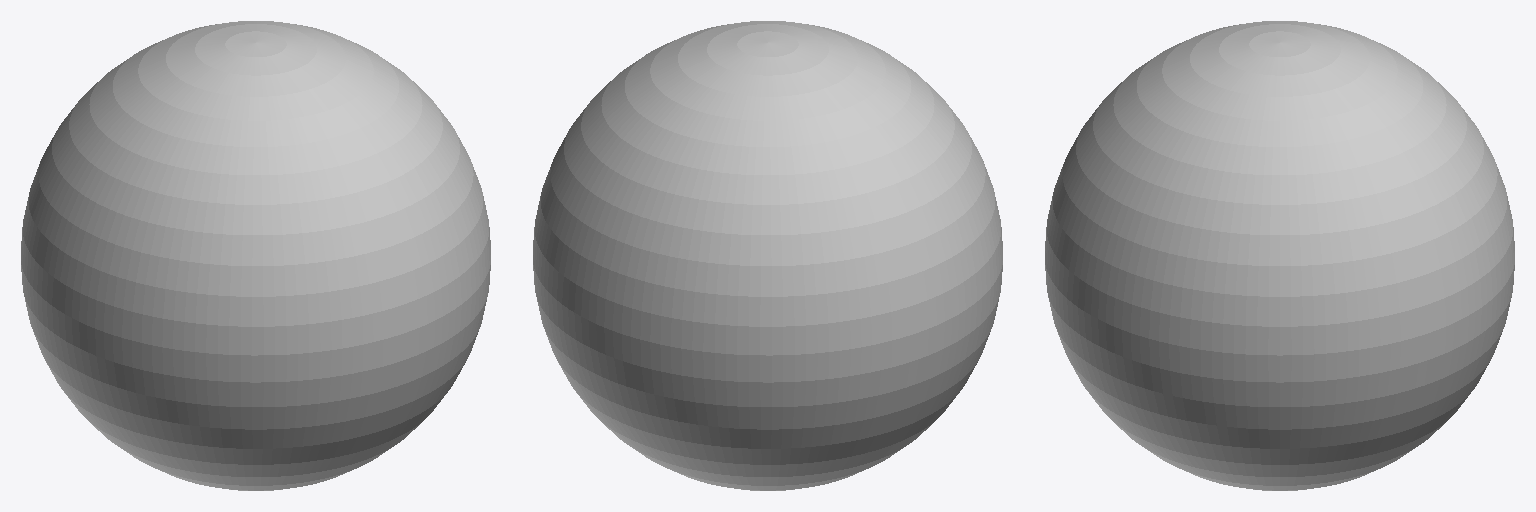
File: SaturnBody.obj
The picture shows the model from 3 angles: view 1: azimuth 30°, elevation 25°; view 2: azimuth 150°, elevation 25°; view 3: azimuth 270°, elevation 25°; orthographic projection.
Visible parts, largest first — view 1: Sphere_Material.002_0.006; view 2: Sphere_Material.002_0.006; view 3: Sphere_Material.002_0.006.
Part boxes in pixels (left/top/right/bottom): Sphere_Material.002_0.006: left=21, top=21, right=490, bottom=490; Sphere_Material.002_0.006: left=533, top=21, right=1002, bottom=490; Sphere_Material.002_0.006: left=1045, top=21, right=1514, bottom=490.
Bounding box in the file's own units: 72.37 × 72.37 × 72.37.